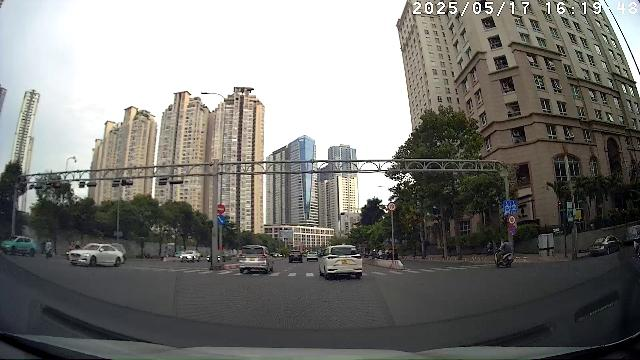127-toc-do-toi-da-60: (508, 215, 516, 224)
127-toc-do-toi-da-70: (387, 202, 396, 212)
